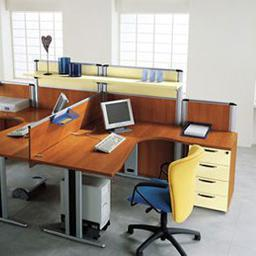Ventana: (118, 14, 186, 69), (9, 10, 61, 80)
